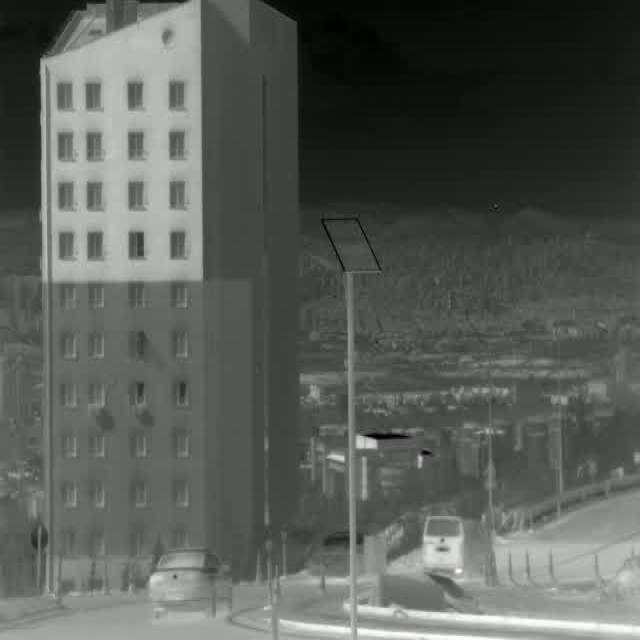Car: (143, 544, 234, 619), (421, 512, 498, 580)
